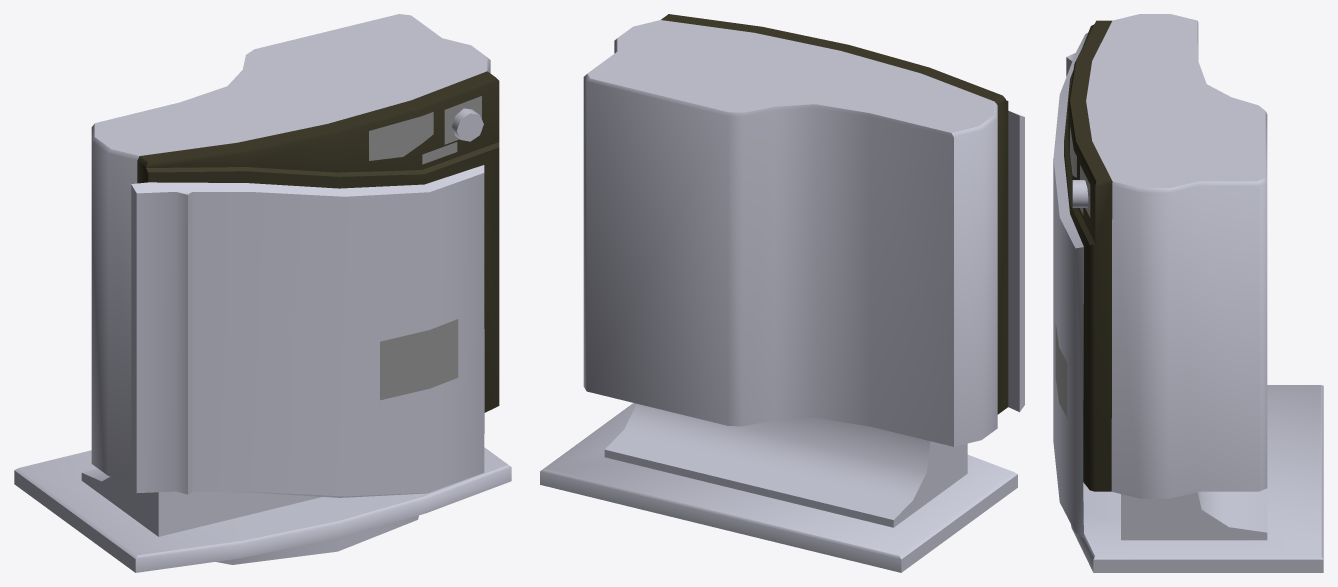
The model's file is SAMNASM150.FBX.
The picture shows the model from 3 angles, left to right: view 1: azimuth 30°, elevation 25°; view 2: azimuth 150°, elevation 25°; view 3: azimuth 270°, elevation 25°; orthographic projection. The views are drawn at different scales.
Visible parts, largest first — view 1: SAMNASM150; view 2: SAMNASM150; view 3: SAMNASM150.
Part boxes in pixels (box(x1,y1,x2,y2)): SAMNASM150: box(14, 14, 511, 572); SAMNASM150: box(540, 14, 1024, 572); SAMNASM150: box(1053, 14, 1323, 572).
Bounding box in the file's own units: 42.2 × 27.21 × 44.3.
